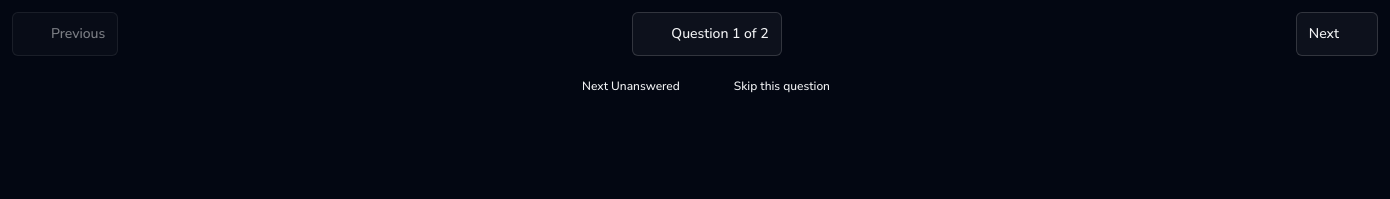
Test: QuestionNavigation - dropdown and getQuestionTitle › getQuestionTitle adds ⚙️ prefix for draft questions
Click the button "Question 1 of 2". click: (707, 34)
box: left=632, top=12, right=782, bottom=56
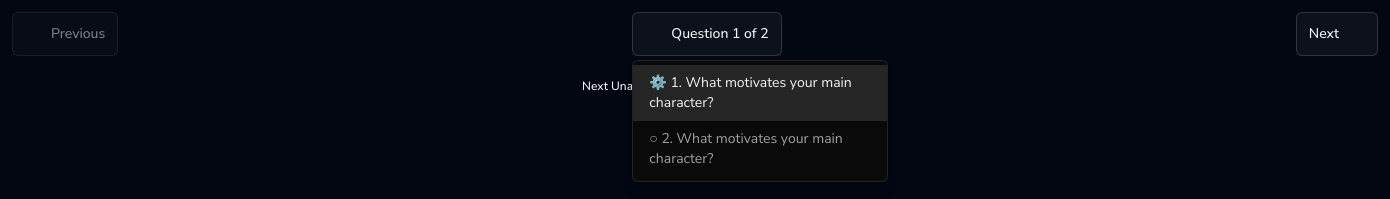
Expected: the list item "⚙️ 1. What motivates your main character?" is shown, left=633, top=65, right=887, bottom=121
